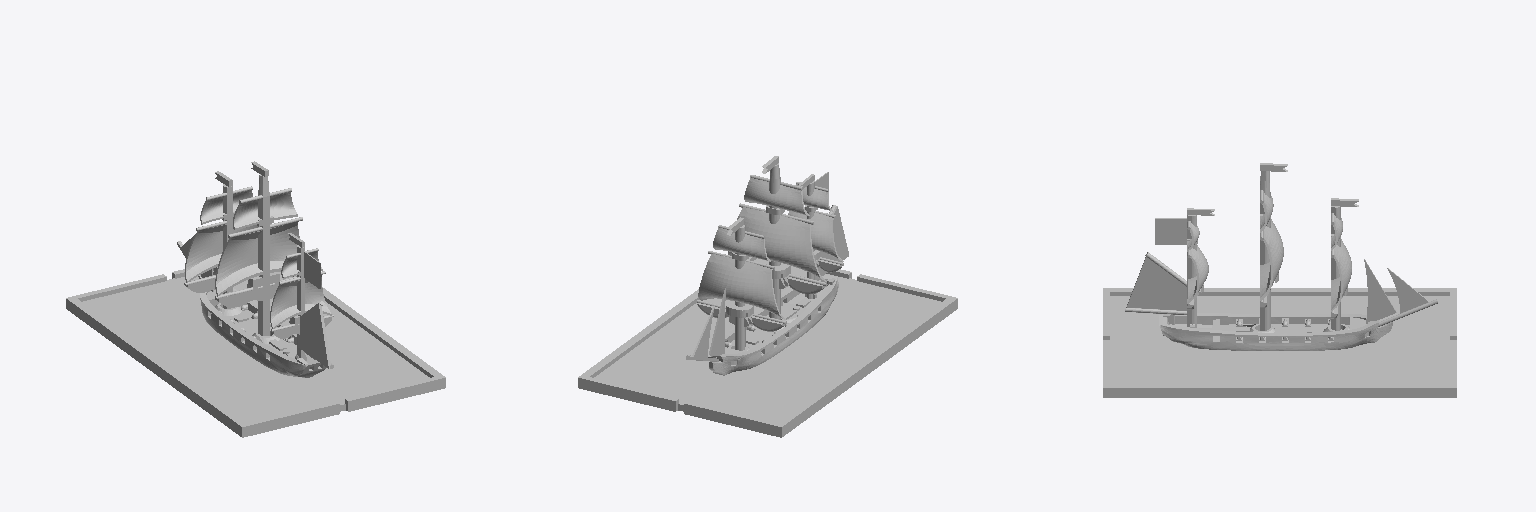
Rendered from Sloop-of-War.obj.
3 views of the same model, side by side, from view 1: azimuth 30°, elevation 25°; view 2: azimuth 150°, elevation 25°; view 3: azimuth 270°, elevation 25° (orthographic).
Parts seen in each view (by area): view 1: Sloop-of-War.obj; view 2: Sloop-of-War.obj; view 3: Sloop-of-War.obj.
Boxes of the visible parts, x1=… form: Sloop-of-War.obj: x1=66, y1=161, x2=445, y2=437; Sloop-of-War.obj: x1=578, y1=156, x2=957, y2=437; Sloop-of-War.obj: x1=1103, y1=163, x2=1456, y2=397.
Size of the model in its own units: 4.3 by 3.73 by 6.45.